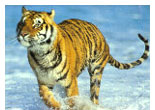Tigre: (13, 6, 143, 107)
